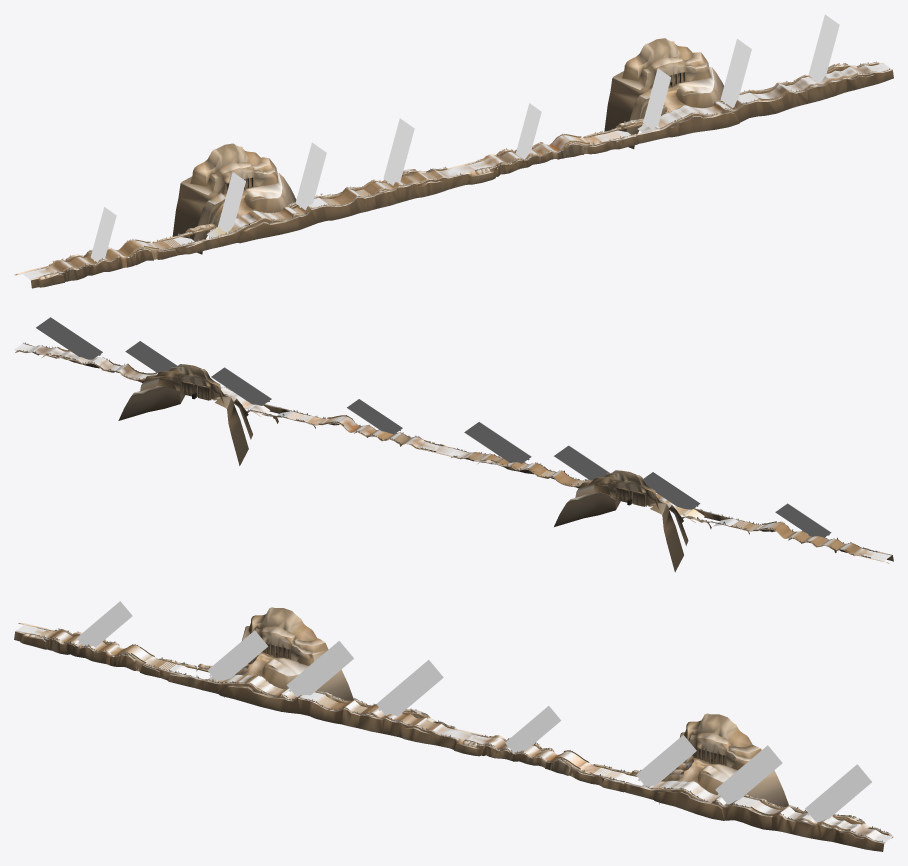
The model's file is Desert_10.fbx.
3 renders of one model, top to bottom at view 1: azimuth 30°, elevation 25°; view 2: azimuth 150°, elevation 25°; view 3: azimuth 330°, elevation 25°, orthographic.
Visible parts, largest first — view 1: Mountain_01, Light_01, Ground_01, Tree_01, Road_01, Ground_02; view 2: Mountain_01, Light_01, Ground_01, Tree_01, Pattern_01, Road_01; view 3: Mountain_01, Light_01, Ground_01, Tree_01, Road_01, Ground_02, Pattern_01.
Part boxes in pixels (bbox=[...]): Mountain_01: bbox=[30, 38, 893, 288]; Light_01: bbox=[90, 14, 839, 262]; Ground_01: bbox=[22, 63, 890, 279]; Tree_01: bbox=[52, 61, 892, 274]; Road_01: bbox=[30, 63, 891, 279]; Ground_02: bbox=[14, 65, 857, 279]; Mountain_01: bbox=[15, 343, 893, 572]; Light_01: bbox=[36, 317, 831, 537]; Ground_01: bbox=[15, 343, 890, 561]; Tree_01: bbox=[19, 342, 868, 552]; Pattern_01: bbox=[180, 381, 646, 506]; Road_01: bbox=[14, 343, 891, 561]; Mountain_01: bbox=[14, 607, 893, 851]; Light_01: bbox=[76, 601, 871, 821]; Ground_01: bbox=[16, 625, 892, 842]; Tree_01: bbox=[39, 628, 888, 842]; Road_01: bbox=[16, 627, 893, 842]; Ground_02: bbox=[18, 623, 869, 828]; Pattern_01: bbox=[229, 643, 726, 765].
Size of the model in its own units: 83926 by 8018 by 7291.
